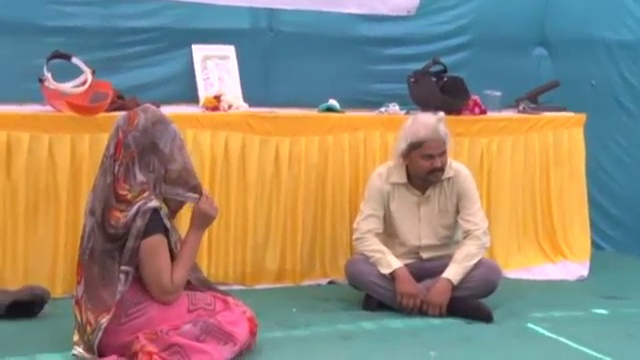helmet_off: (99, 105, 202, 206), (395, 114, 449, 189)
person: (69, 104, 257, 360), (346, 111, 505, 321)
